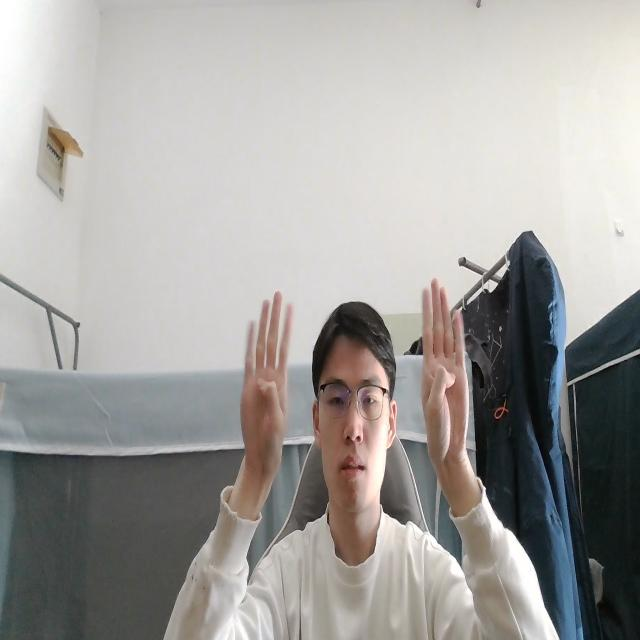four: (236, 283, 294, 498), (418, 274, 472, 486)
